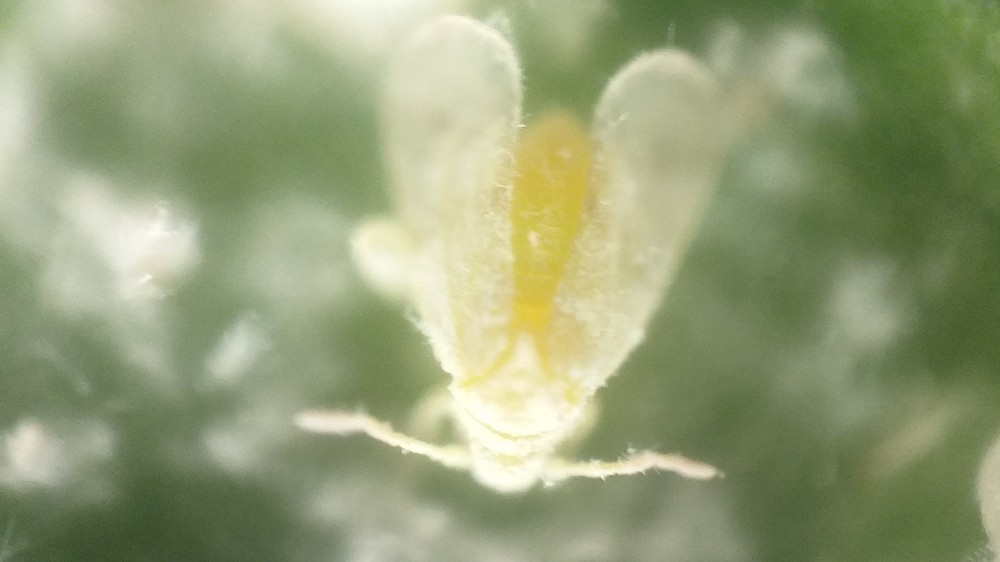Mosca Blanca: (300, 24, 734, 528)
